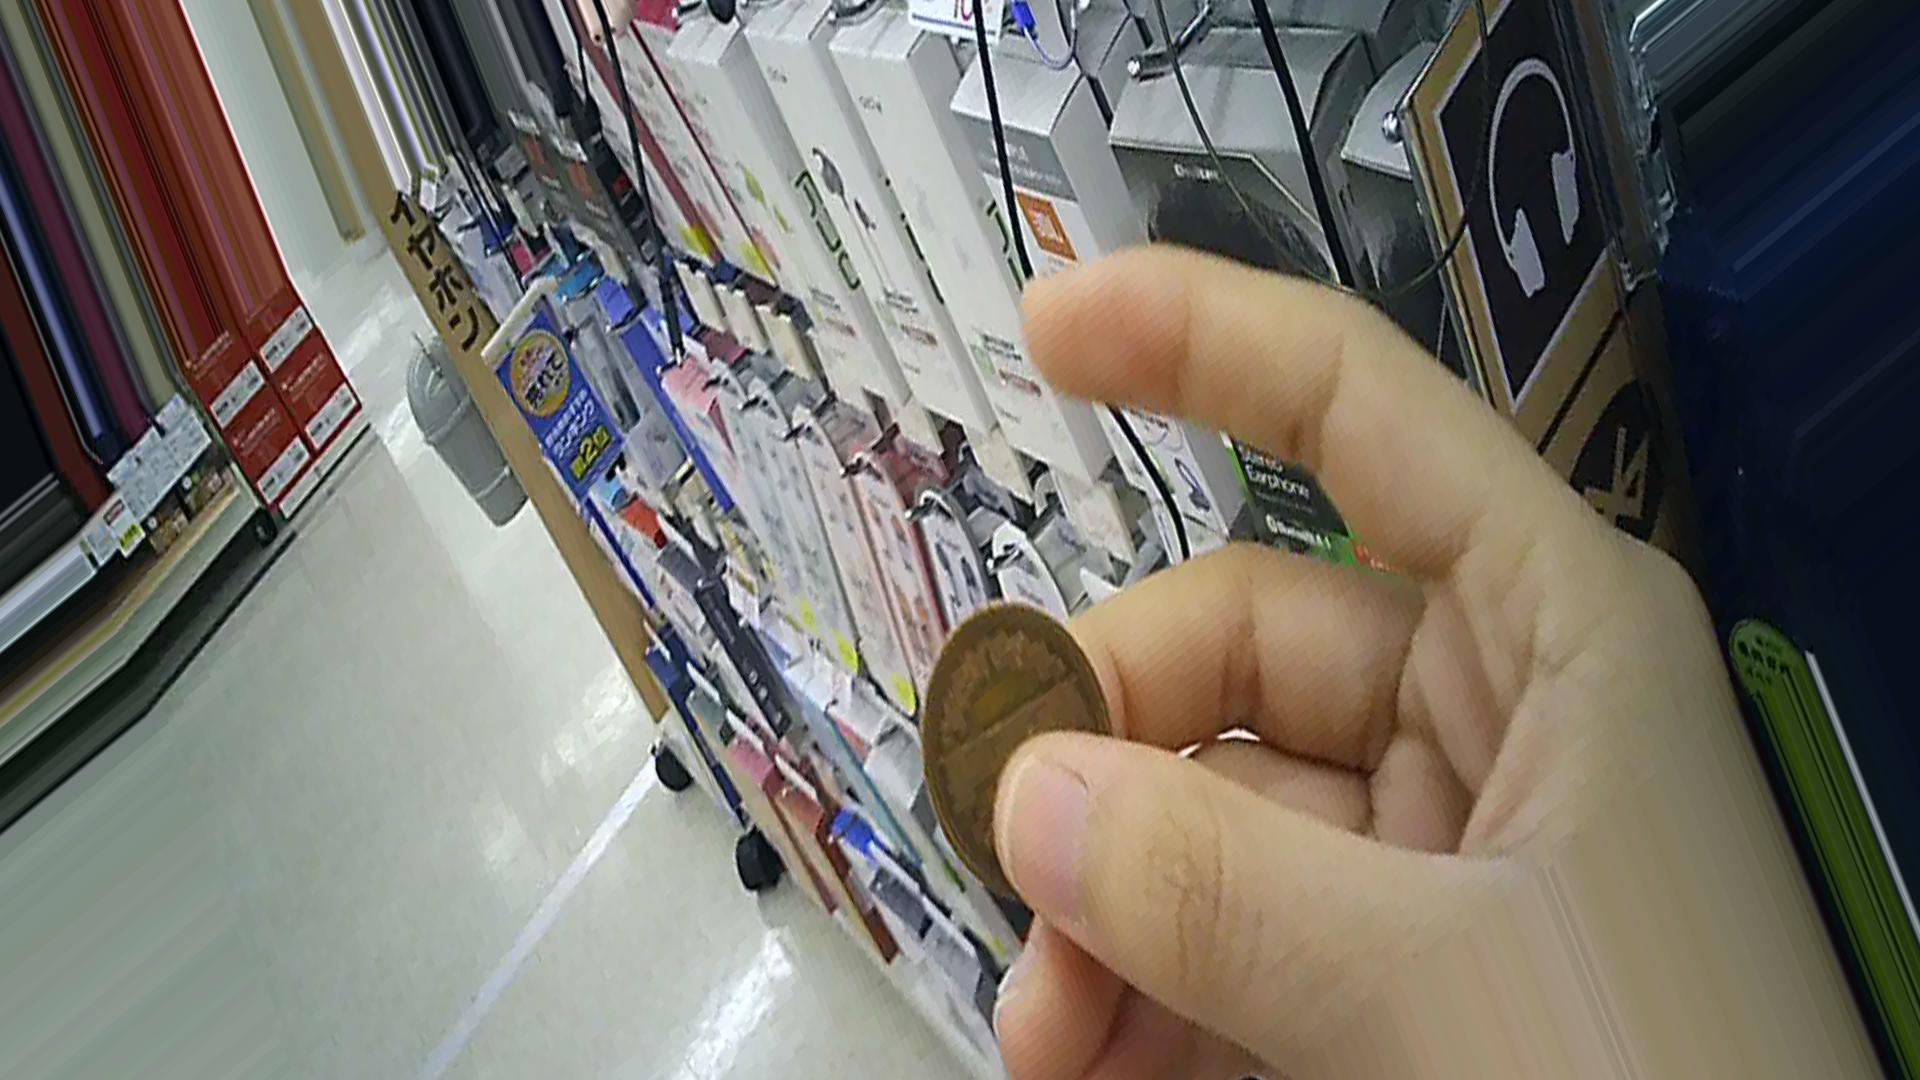10 Yen: (905, 597, 1124, 915)
